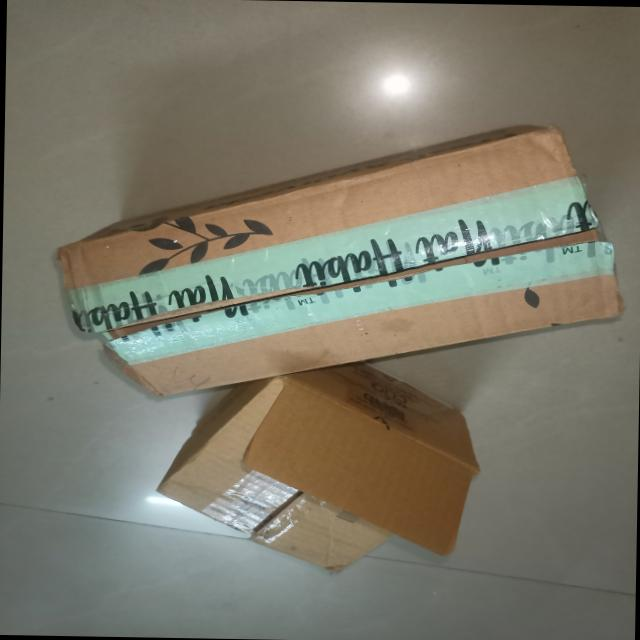cardboard_box: (16, 106, 639, 425), (91, 342, 522, 620)
